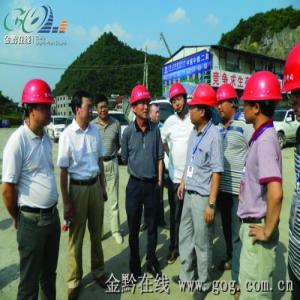none: (72, 92, 93, 124), (96, 94, 110, 121)
red: (244, 72, 282, 125), (23, 79, 53, 129), (285, 45, 300, 123), (190, 85, 217, 127), (217, 83, 239, 121), (131, 85, 152, 121), (170, 84, 188, 115)
